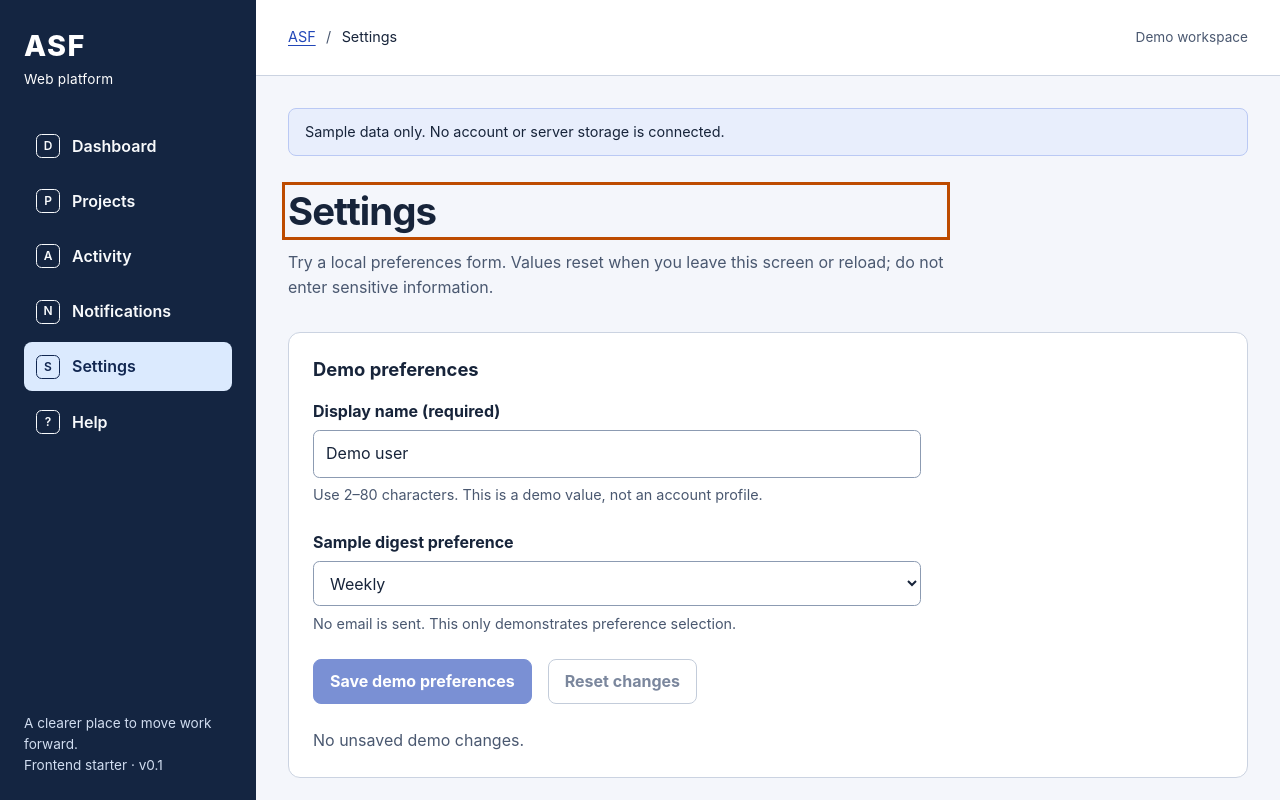
resets unsaved demo settings without implying a server write
Replace the text in the field labelled "Display name (required)" with "Unsaved example" at [617, 454], box x1=313 y1=430 x2=921 y2=478
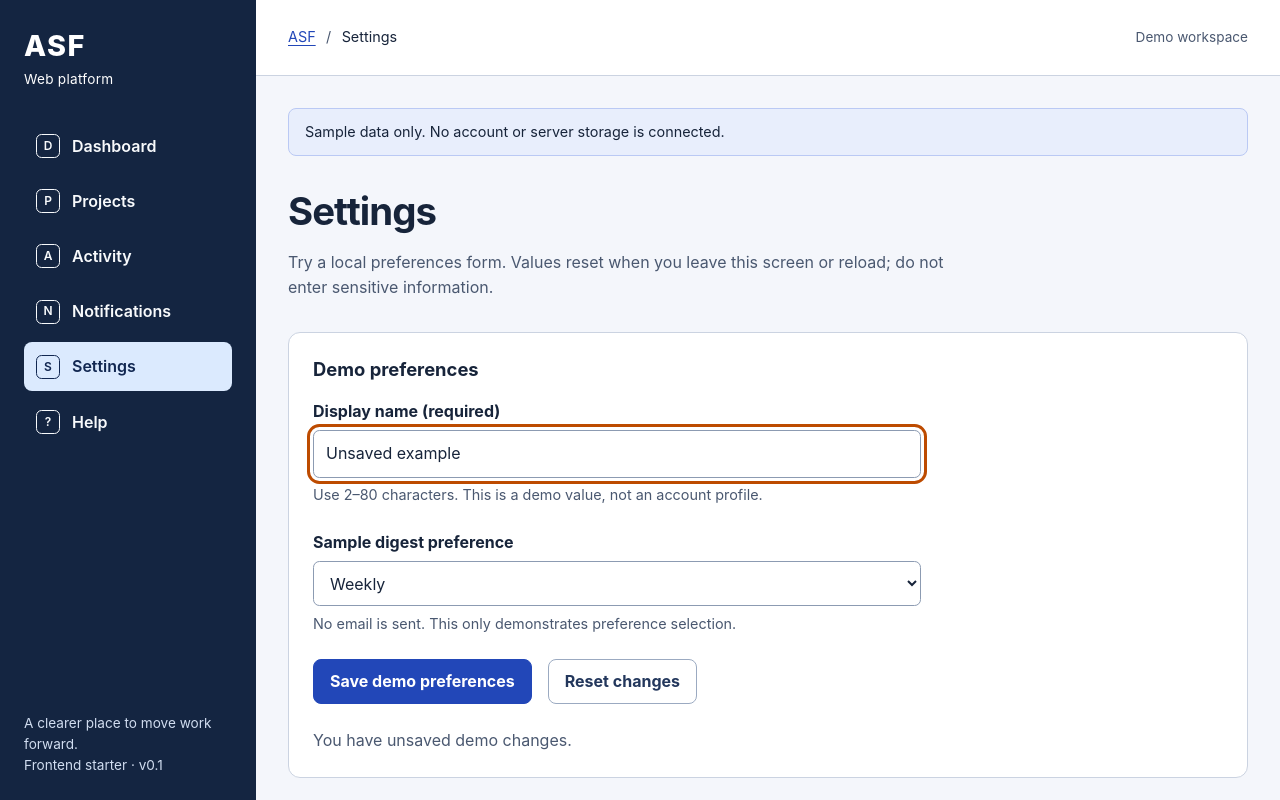
Click the button "Reset changes" at [622, 682], box x1=548 y1=659 x2=697 y2=704
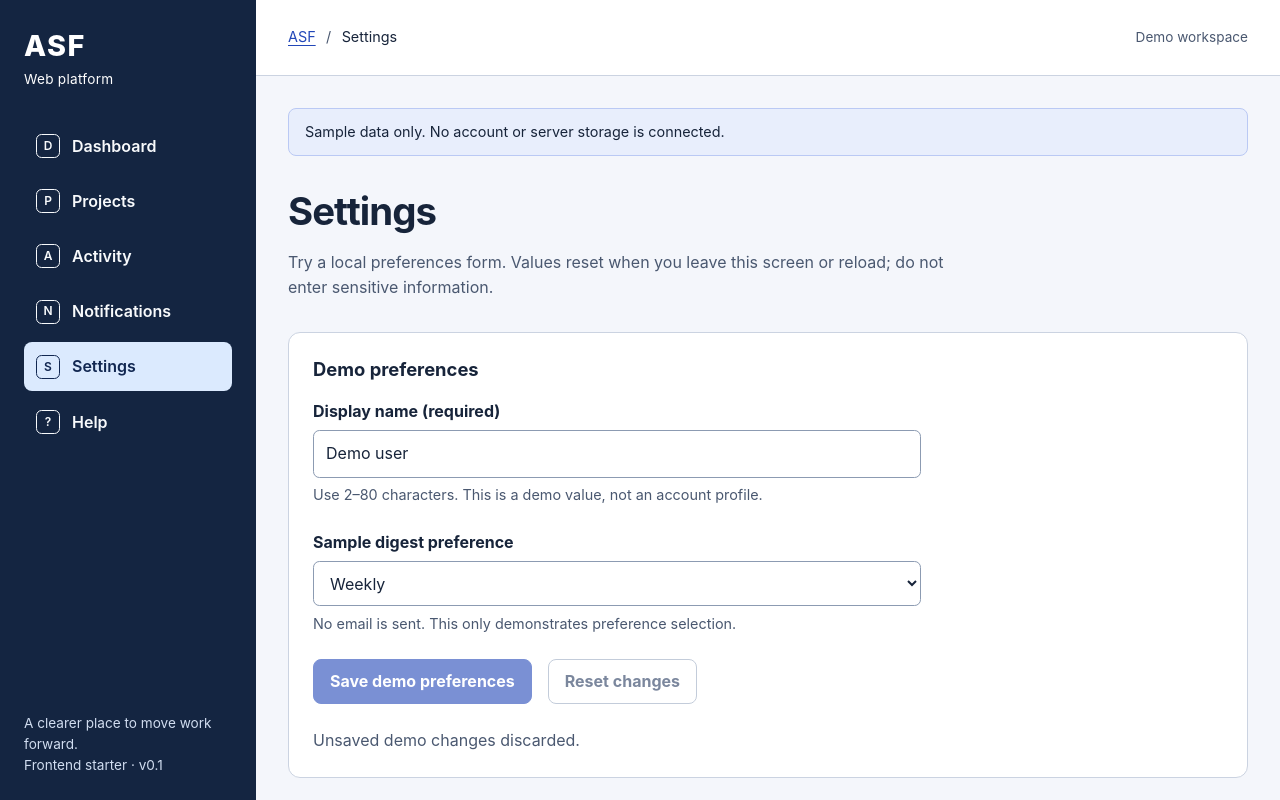
Expected: the field labelled "Display name (required)" holds "Demo user", x1=313 y1=430 x2=921 y2=478
Expected: the button "Save demo preferences" is disabled, x1=313 y1=659 x2=532 y2=704
Expected: the message shows "Unsaved demo changes discarded", x1=313 y1=730 x2=580 y2=750
